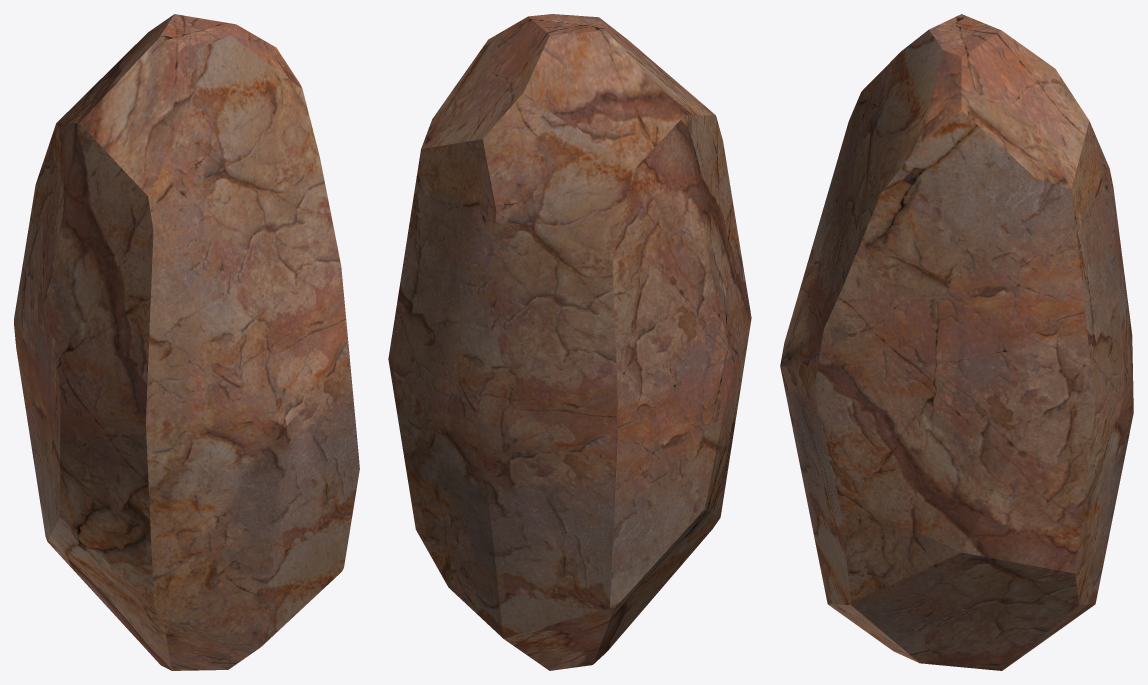
File: Rock3.fbx
The picture shows the model from 3 angles, left to right: view 1: azimuth 30°, elevation 25°; view 2: azimuth 150°, elevation 25°; view 3: azimuth 270°, elevation 25°; orthographic projection.
Visible parts, largest first — view 1: Rock3; view 2: Rock3; view 3: Rock3.
Boxes of the visible parts, x1,y1,x2,y2 form: Rock3: [14, 14, 359, 670]; Rock3: [388, 14, 751, 670]; Rock3: [780, 14, 1133, 670].
Size of the model in its own units: 151 by 321 by 161.
1 material, 1 textured.
